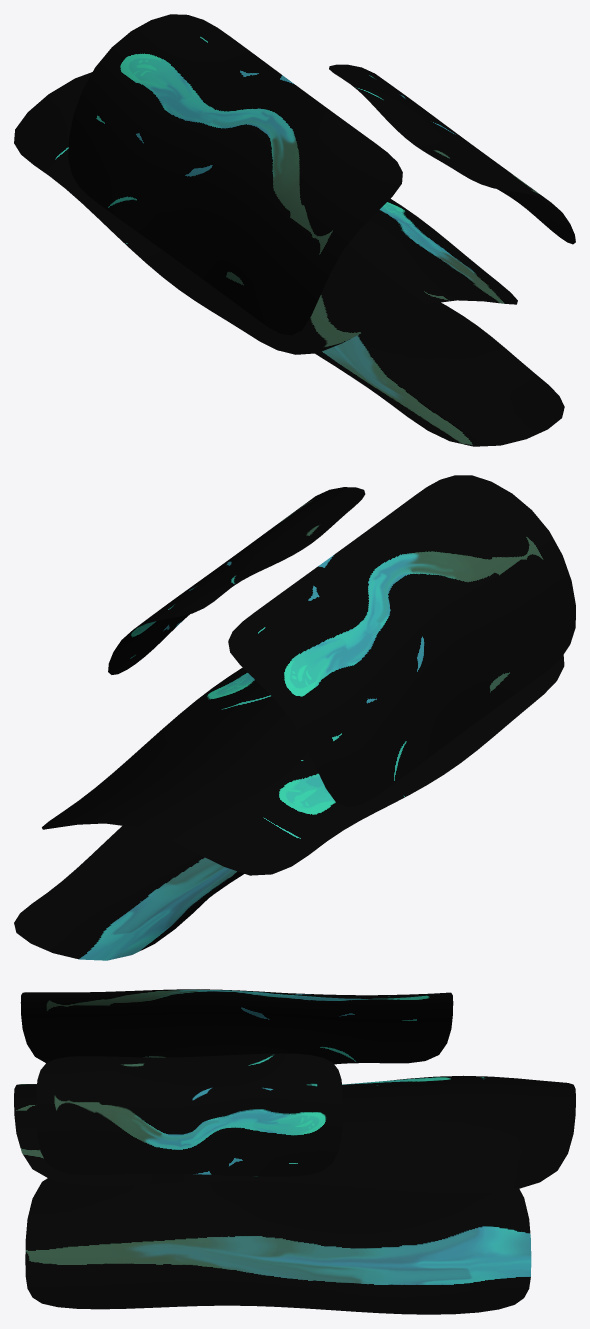
Rendered from Seaweed2.fbx.
3 views of the same model, one above another, from view 1: azimuth 30°, elevation 25°; view 2: azimuth 150°, elevation 25°; view 3: azimuth 270°, elevation 25° (orthographic). The views are drawn at different scales.
Visible parts, largest first — view 1: Plane.003; view 2: Plane.003; view 3: Plane.003.
Part boxes in pixels (<box>): Plane.003: <box>14,14,575,446</box>; Plane.003: <box>14,475,575,960</box>; Plane.003: <box>14,989,575,1314</box>.
Size of the model in its own units: 122 by 115 by 230.
